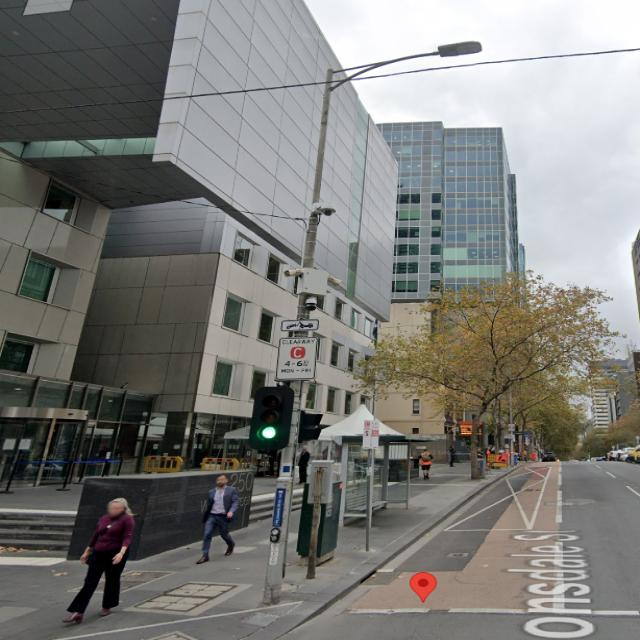mid mount suitable pole: (245, 38, 482, 608)
steel-pole: (262, 68, 334, 606)
streetlight: (327, 38, 482, 92)
traffic-light: (248, 386, 296, 454)
